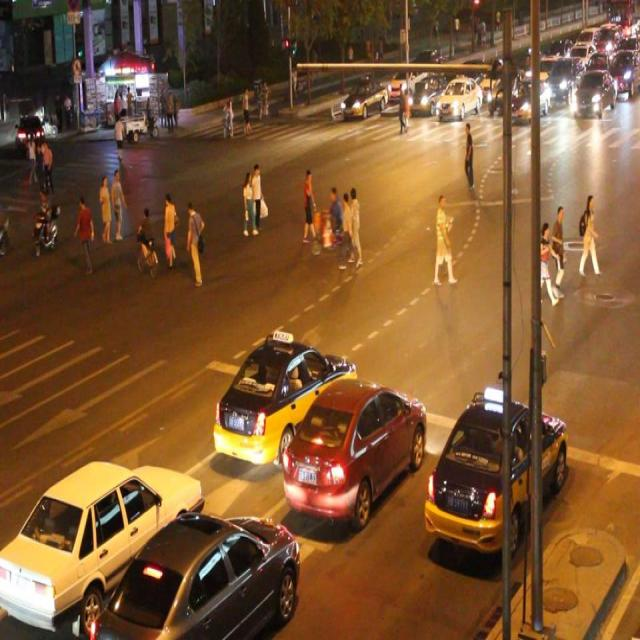car: (1, 457, 203, 630), (92, 511, 298, 640), (424, 385, 565, 554), (282, 373, 425, 521), (214, 335, 355, 466), (342, 74, 386, 119), (436, 78, 480, 119), (408, 73, 443, 112)
